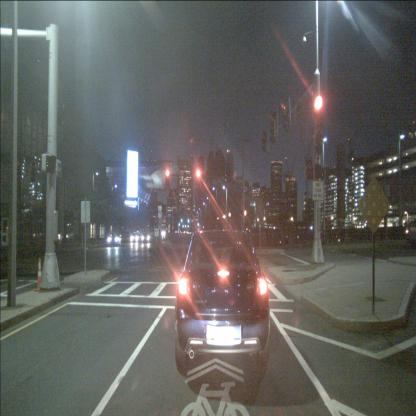movable_object-trafficcone: (32, 256, 46, 293)
vehicle-car: (175, 229, 270, 380), (404, 222, 416, 250), (107, 232, 122, 247), (141, 231, 151, 243), (130, 232, 140, 242), (161, 230, 166, 237)
